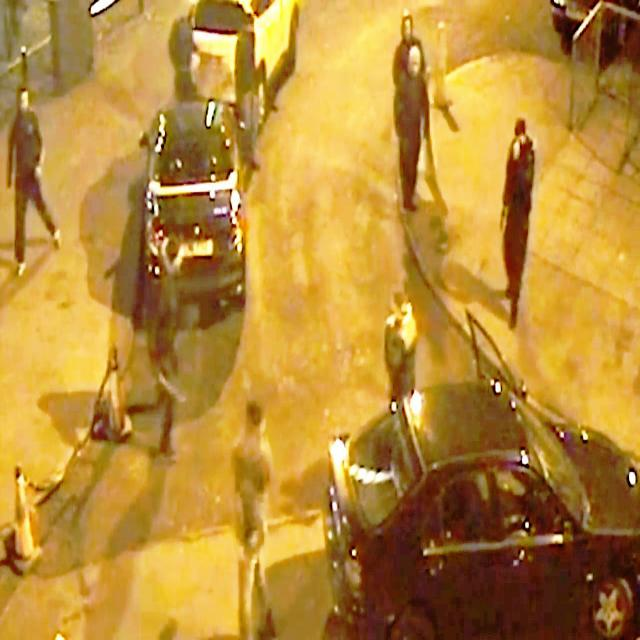Knife: (152, 370, 192, 410)
